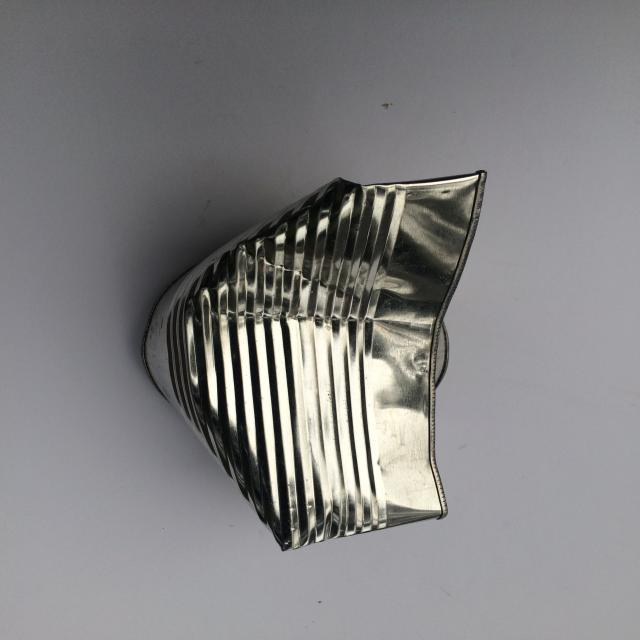metal: (138, 170, 488, 550)
